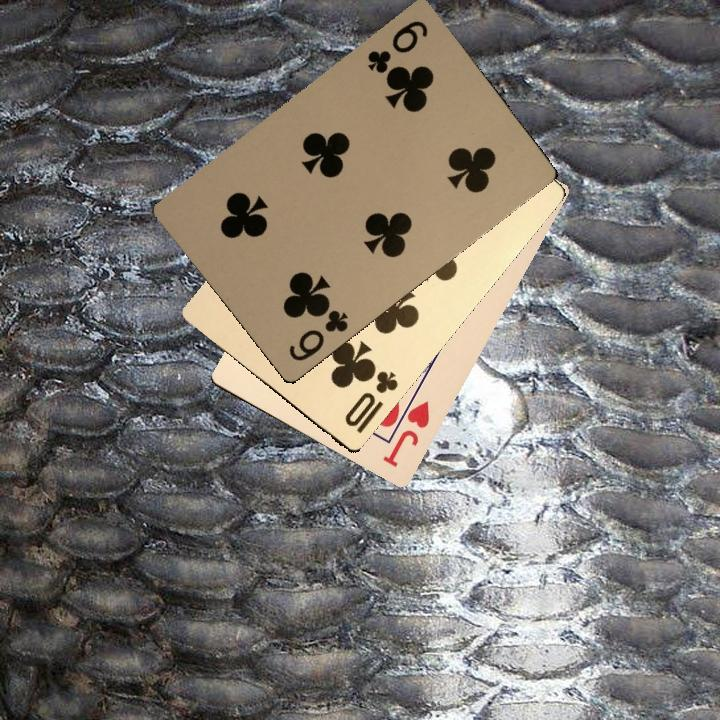10c: (340, 366, 401, 436)
6c: (284, 300, 351, 364), (362, 16, 431, 76)
Jh: (378, 389, 433, 470)
